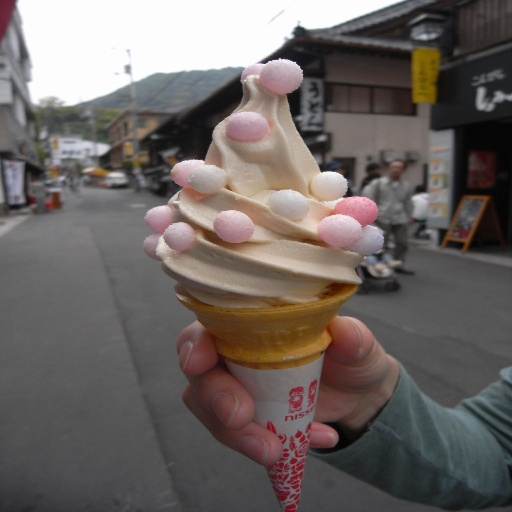hand: (171, 319, 401, 467)
